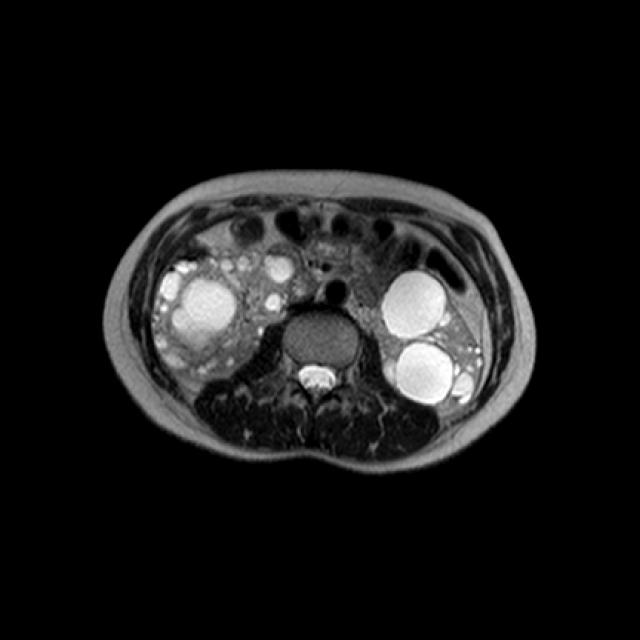sag: (151, 247, 298, 384)
sol: (356, 266, 484, 417)
